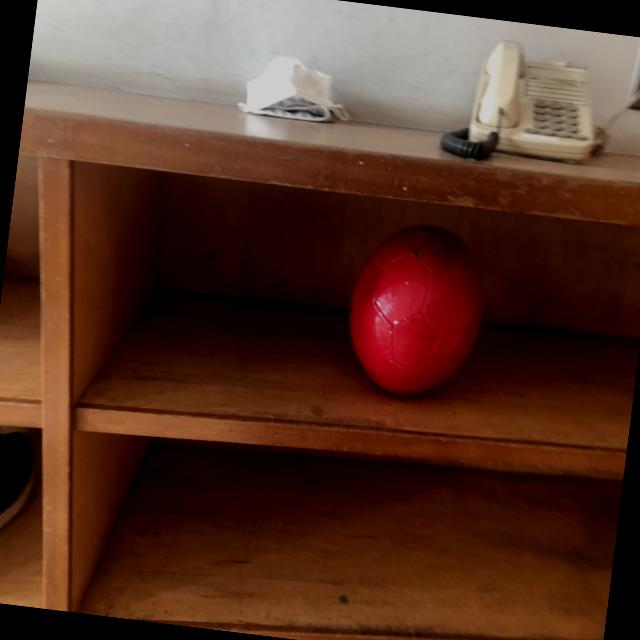red_ball: (341, 216, 494, 408)
